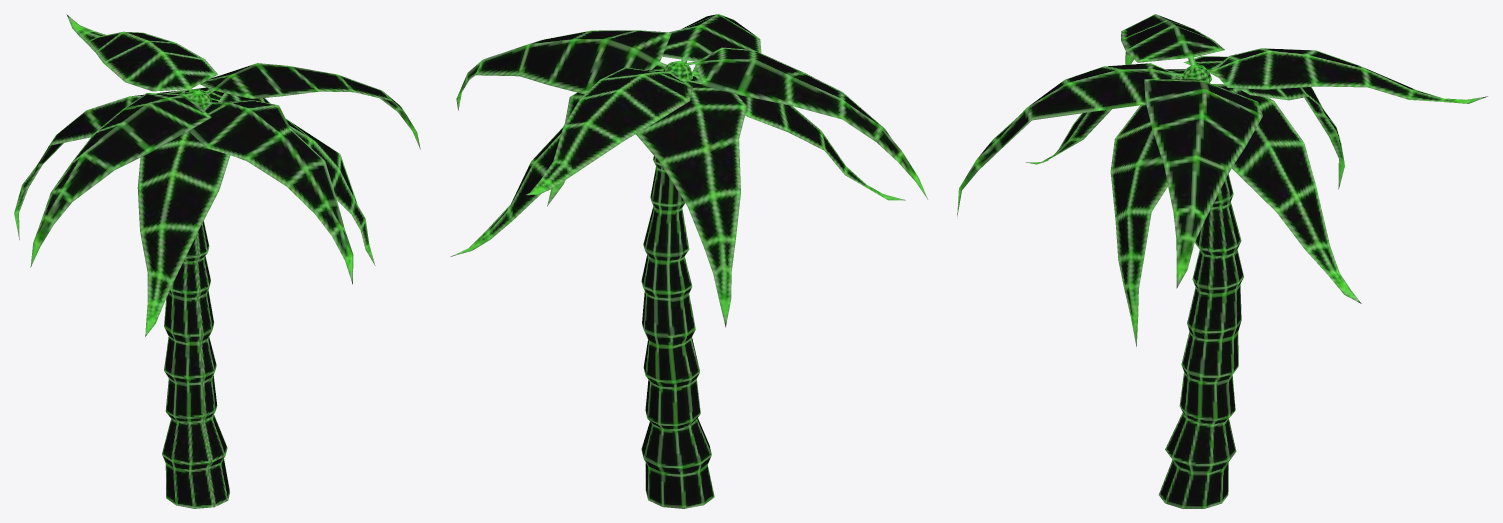
File: palm-transformed.glb
The picture shows the model from 3 angles, left to right: view 1: azimuth 30°, elevation 25°; view 2: azimuth 150°, elevation 25°; view 3: azimuth 270°, elevation 25°; orthographic projection. The views are drawn at different scales.
Visible parts, largest first — view 1: Feuille_1_feuilles_0, tronc_tronc1_0; view 2: Feuille_1_feuilles_0, tronc_tronc1_0; view 3: Feuille_1_feuilles_0, tronc_tronc1_0.
Part boxes in pixels (x1,y1,x2,y2): Feuille_1_feuilles_0: (14, 14, 420, 336); tronc_tronc1_0: (162, 89, 229, 508); Feuille_1_feuilles_0: (450, 14, 927, 327); tronc_tronc1_0: (641, 61, 714, 508); Feuille_1_feuilles_0: (957, 14, 1487, 346); tronc_tronc1_0: (1158, 64, 1243, 508).
Bounding box in the file's own units: 14.57 × 14.02 × 15.22.
Materials: 2 (2 with a texture image).
